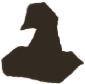wizardhat: (1, 1, 85, 84)
